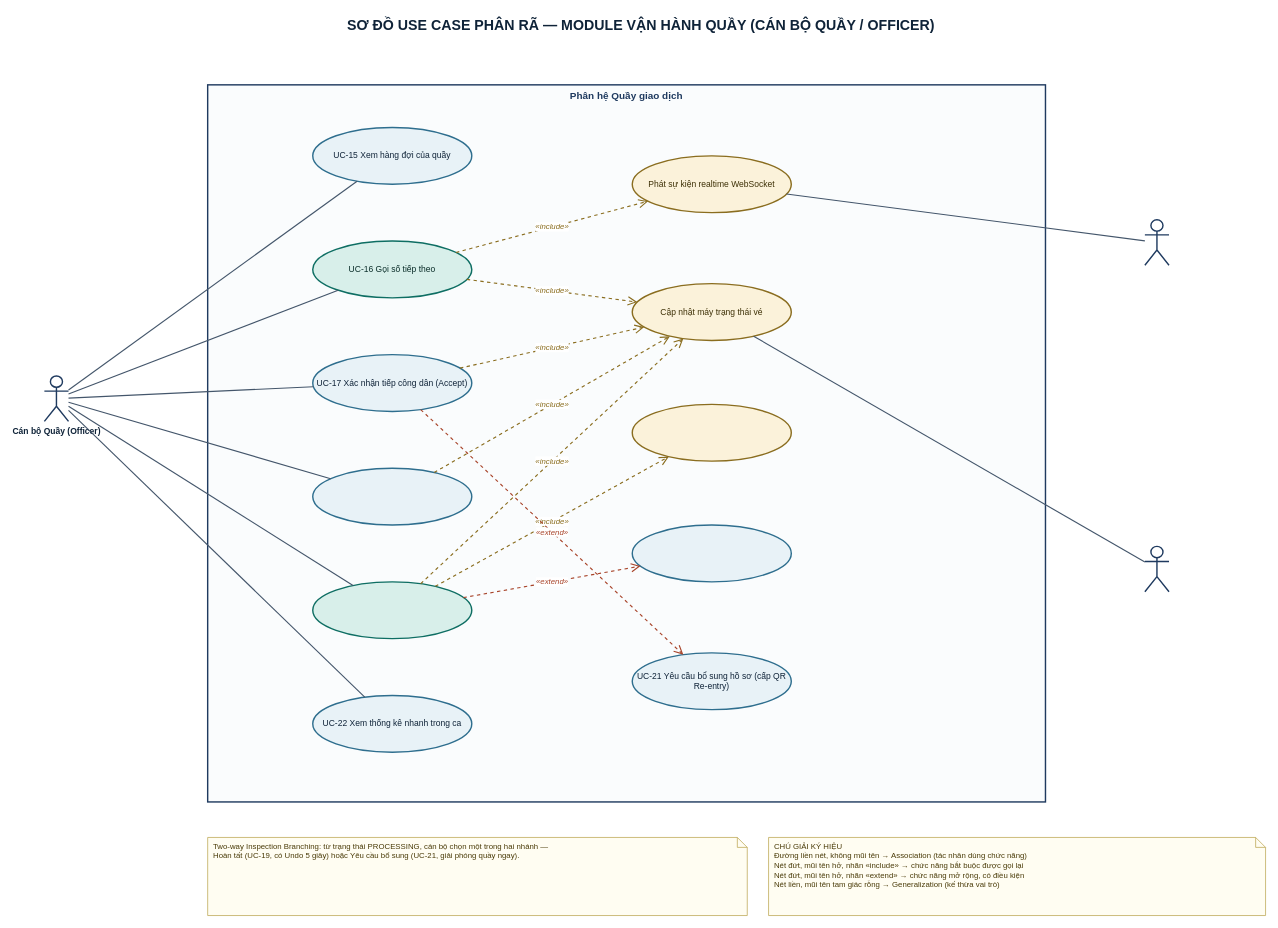
Image size: 1278x928. Some labels were removed from this diagram. The centre of each missing label's shape, as x and y in pixels:
Bảng LED / Loa PA: (x=1156, y=242)
Ghi lịch sử chuyển trạng thái vé: (x=711, y=432)
Hệ thống (System): (x=1156, y=568)
UC-18 Đánh dấu vắng mặt (No-show thủ công): (x=392, y=496)
UC-19 Hoàn tất hồ sơ (Complete): (x=392, y=610)
UC-20 Hoàn tác hoàn tất (Undo, buffer 5 giây): (x=711, y=553)
